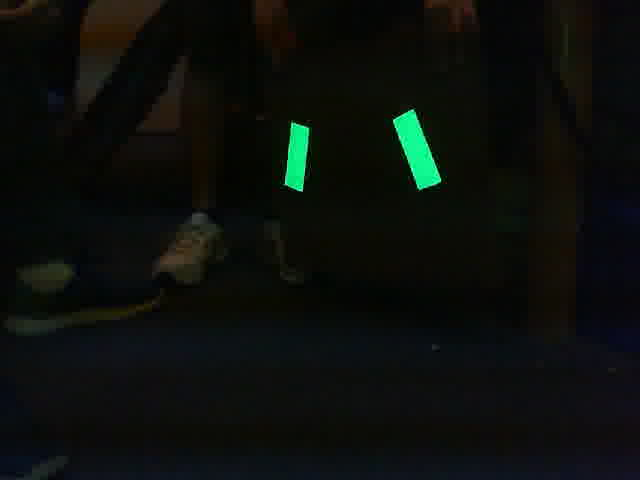target: (282, 107, 445, 193)
